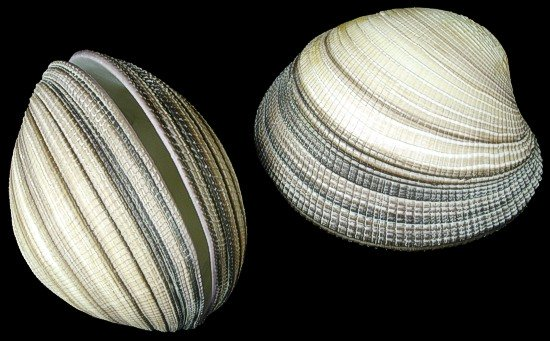cockle: (251, 7, 545, 254), (9, 47, 250, 333)
